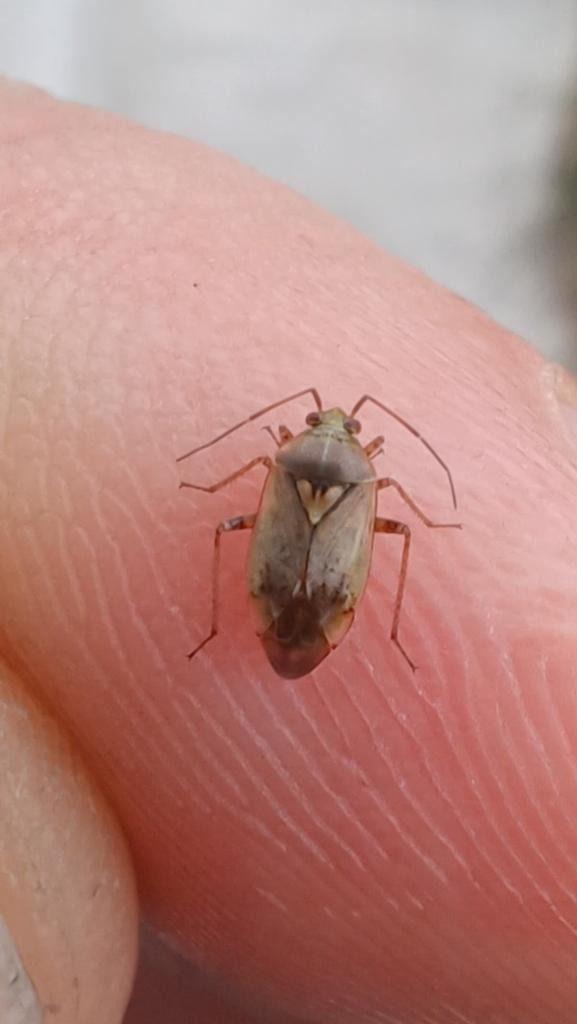plant_bugs: (100, 301, 523, 715)
